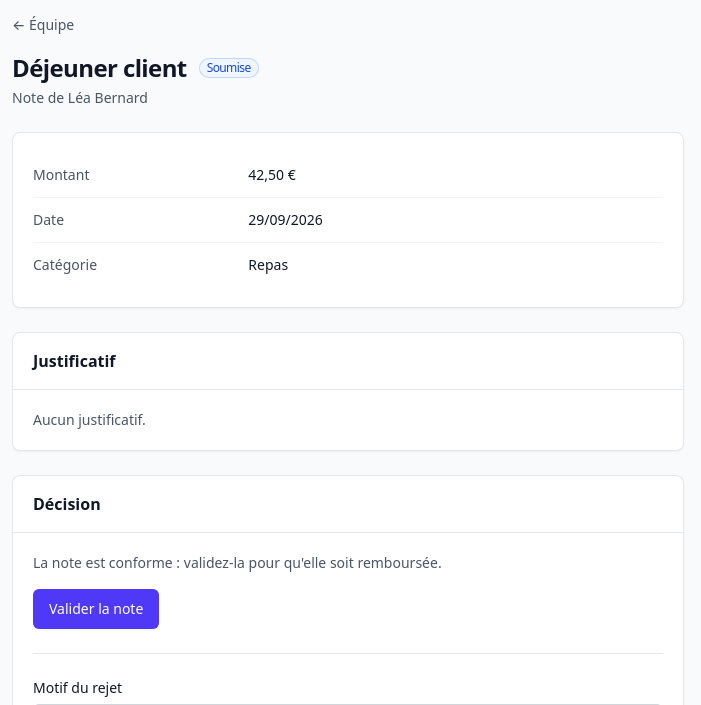
Test: Décision du manager › C6 – une décision refusée par le serveur (409) est affichée
Click the button "Valider la note" at [96, 609], box [33,589,159,629]
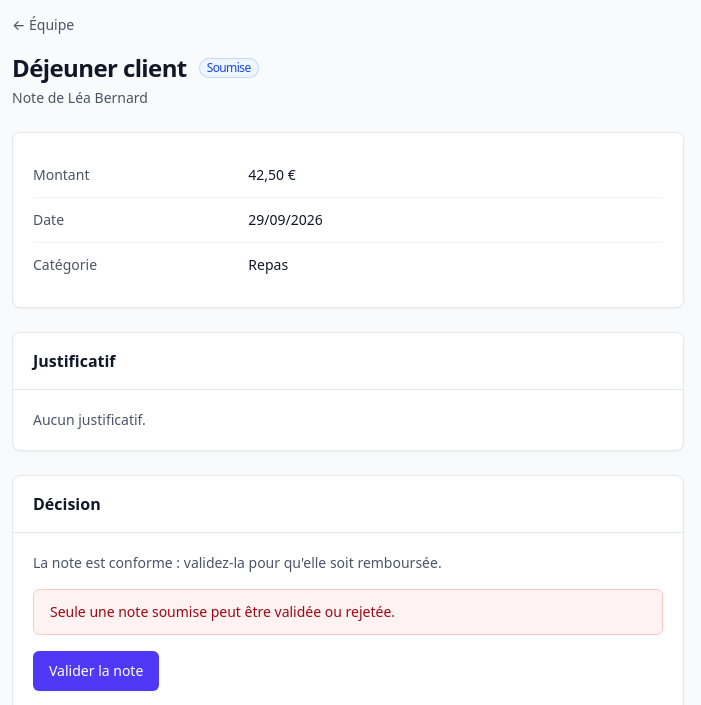
Expected: the message reads "Seule une note soumise peut être validée ou rejetée.", [50,602,395,621]
